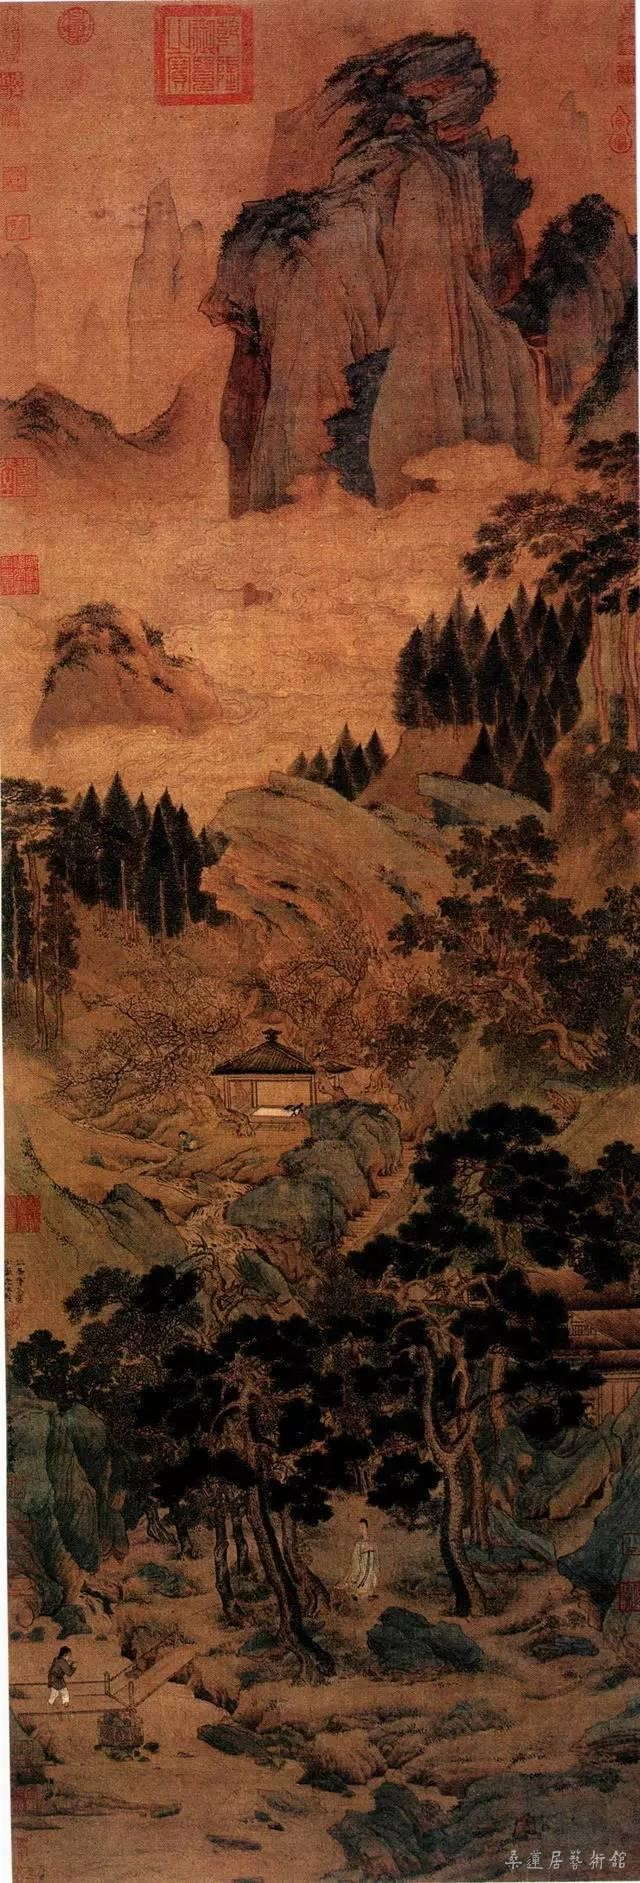booth: (223, 1052, 353, 1152)
creek: (170, 1159, 271, 1264)
hill: (41, 612, 235, 742), (237, 788, 417, 908)
kid: (42, 1646, 89, 1704)
man: (348, 1519, 383, 1594)
mountain: (201, 50, 547, 496), (6, 179, 201, 498)
pine: (47, 776, 223, 936), (377, 592, 579, 724), (465, 742, 543, 794), (319, 740, 375, 792)
river: (45, 1726, 391, 1881)
tree: (64, 1280, 590, 1510), (425, 836, 640, 1072), (414, 1114, 640, 1273), (431, 1445, 548, 1626), (487, 460, 640, 598), (218, 1510, 334, 1691), (89, 998, 235, 1102), (267, 950, 397, 1042)
